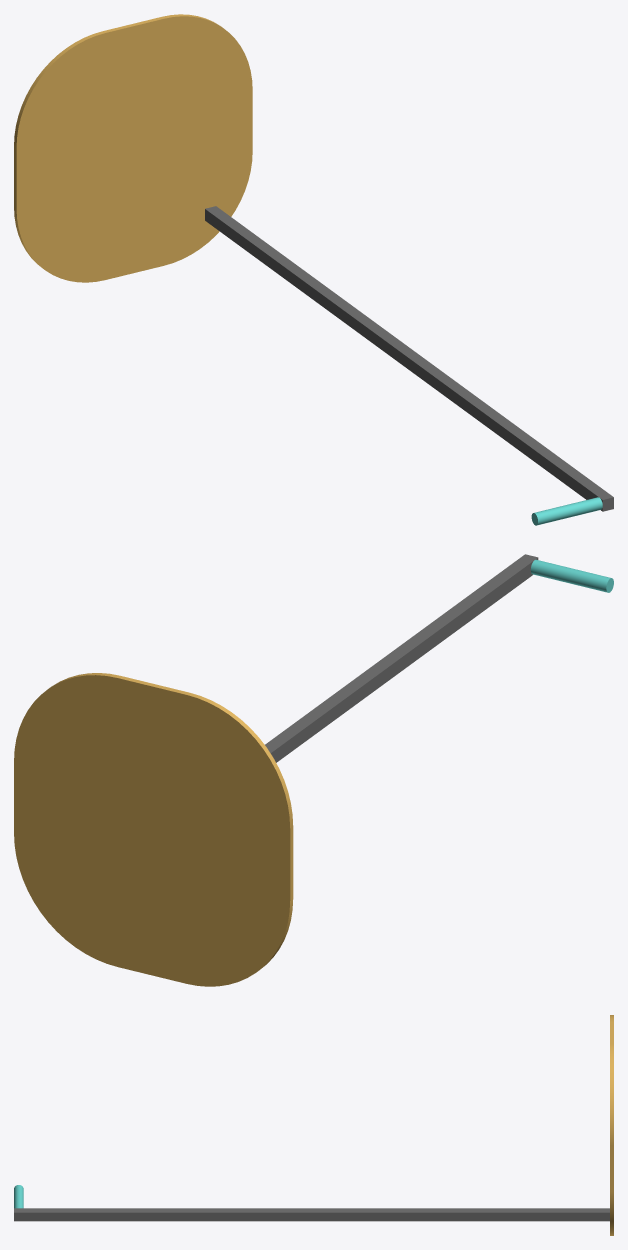
The model's file is Base_upper.gltf.
3 renders of one model, top to bottom at view 1: azimuth 30°, elevation 25°; view 2: azimuth 150°, elevation 25°; view 3: azimuth 270°, elevation 25°, orthographic. The views are drawn at different scales.
Visible parts, largest first — view 1: mesh21, mesh19, mesh17, mesh13; view 2: mesh23, mesh19, mesh17, mesh13, mesh27; view 3: mesh20, mesh17, mesh25.
Part boxes in pixels (x1=…): mesh21: x1=16, y1=16, x2=252, y2=282; mesh19: x1=205, y1=209, x2=598, y2=499; mesh17: x1=205, y1=206, x2=613, y2=499; mesh13: x1=534, y1=497, x2=602, y2=525; mesh23: x1=14, y1=675, x2=290, y2=986; mesh19: x1=271, y1=561, x2=533, y2=762; mesh17: x1=265, y1=554, x2=537, y2=753; mesh13: x1=530, y1=559, x2=610, y2=592; mesh27: x1=187, y1=692, x2=293, y2=828; mesh20: x1=14, y1=1212, x2=609, y2=1221; mesh17: x1=14, y1=1208, x2=609, y2=1212; mesh25: x1=610, y1=1043, x2=613, y2=1145.
Bounding box in the file's own units: 0.42 × 0.42 × 1.23.
